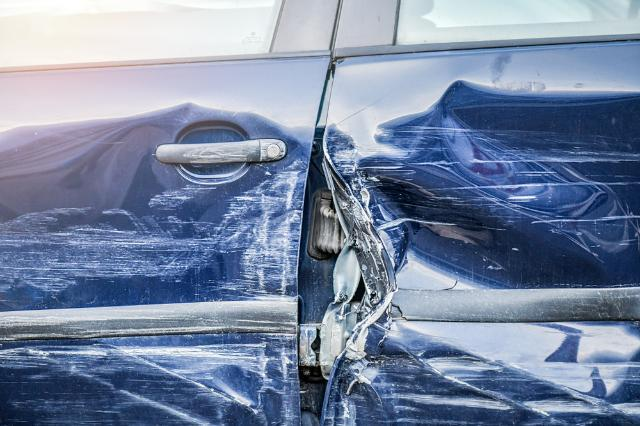dent: (323, 80, 640, 426), (0, 99, 300, 411)
no part: (299, 150, 370, 424)
